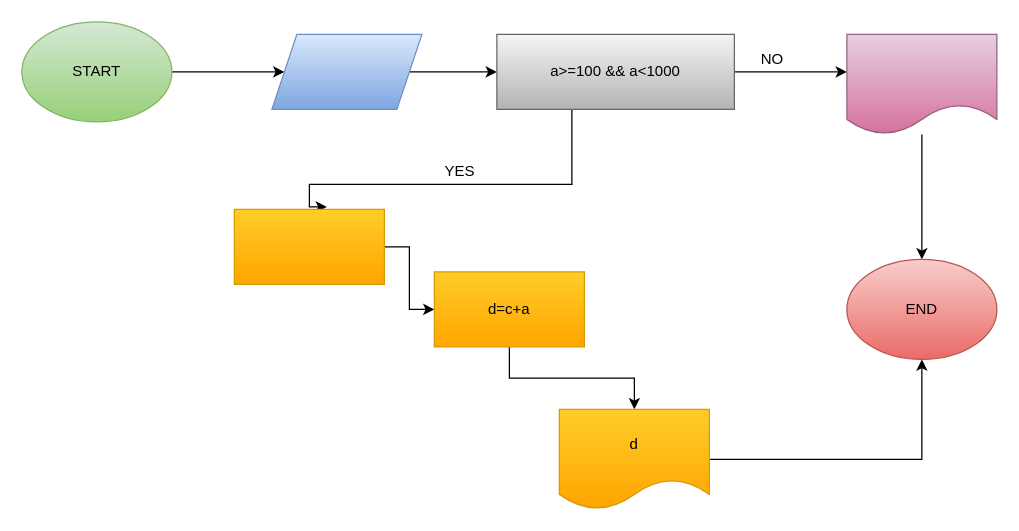
This 1019x531 diagram has some shape labels left out. Each missing label, with the centre of its shape:
"a=123 b=1000" goes at point 346,71.
"c=a * b" goes at point 308,246.
"Shertlere uygun deyil" goes at point 921,83.
